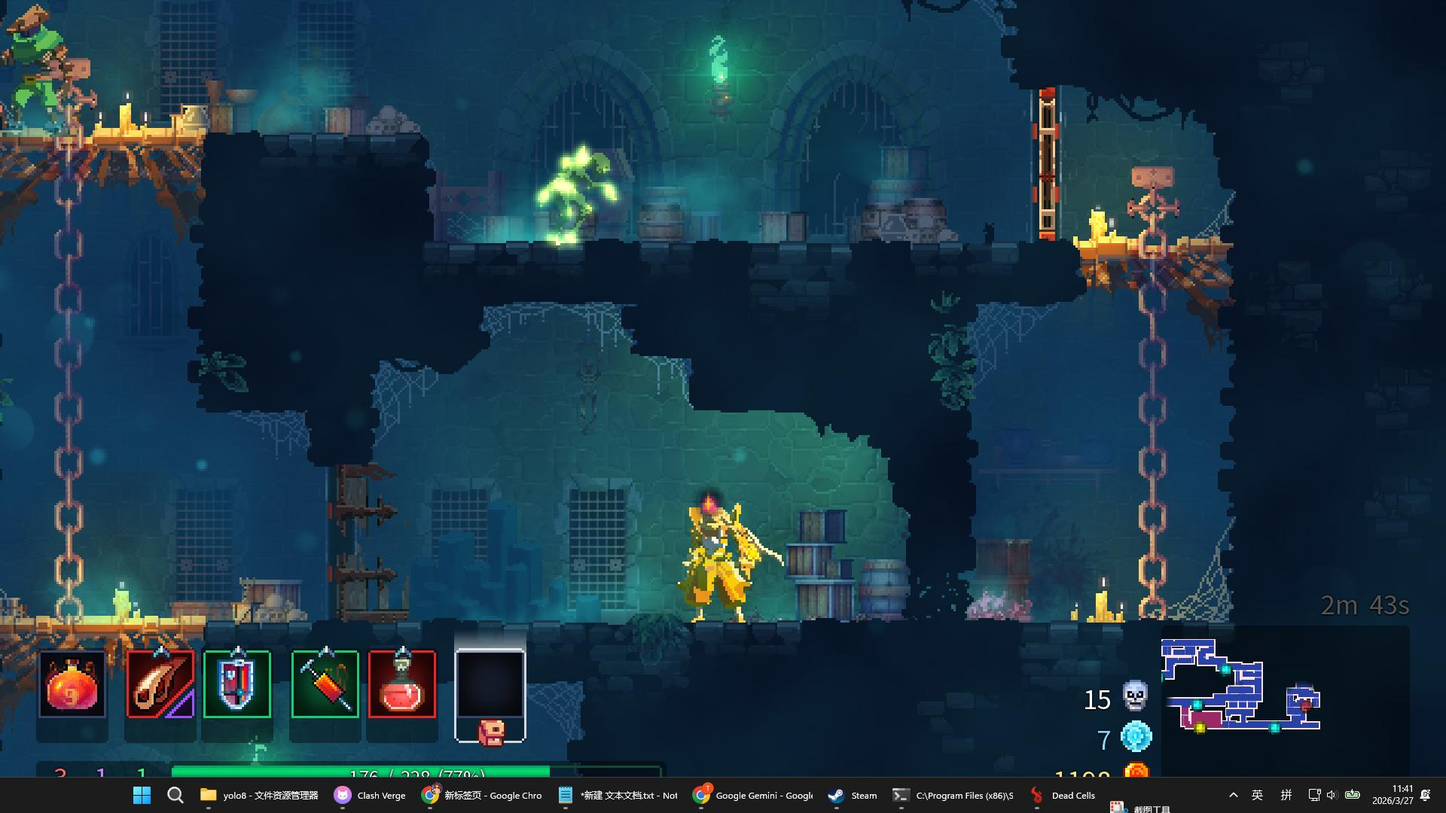gamer: (679, 494, 778, 627)
green1: (542, 131, 622, 244)
